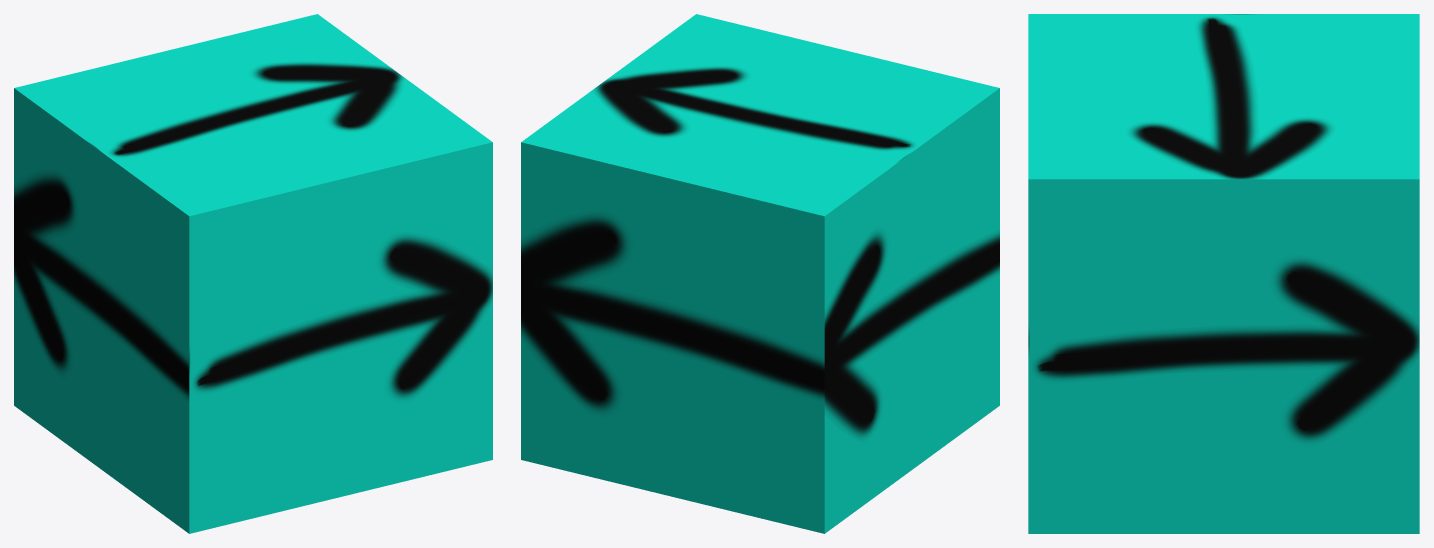
File: horizontalPU.glb
The picture shows the model from 3 angles, left to right: view 1: azimuth 30°, elevation 25°; view 2: azimuth 150°, elevation 25°; view 3: azimuth 270°, elevation 25°; orthographic projection. The views are drawn at different scales.
Parts seen in each view (by area): view 1: HPowerupSymbol; view 2: HPowerupSymbol; view 3: HPowerupSymbol.
Boxes of the visible parts, x1,y1,x2,y2 form: HPowerupSymbol: (14,14,492,533); HPowerupSymbol: (521,14,999,533); HPowerupSymbol: (1028,14,1419,533).
Size of the model in its own units: 2 by 2 by 2.
2 materials, 1 textured.
